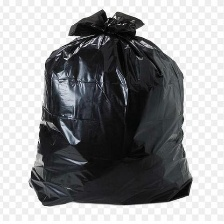plastic_bag: (22, 5, 195, 214)
